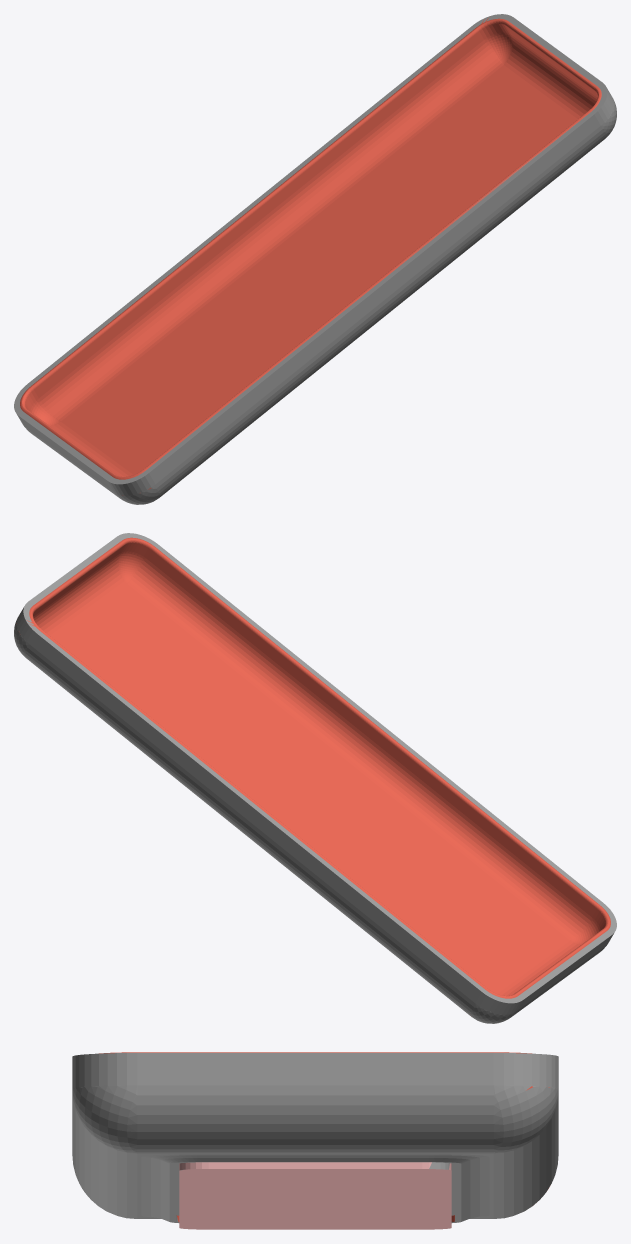
The model's file is Red_Concrete_Dish.glb.
The picture shows the model from 3 angles, top to bottom: view 1: azimuth 30°, elevation 25°; view 2: azimuth 150°, elevation 25°; view 3: azimuth 270°, elevation 25°; orthographic projection. The views are drawn at different scales.
Visible parts, largest first — view 1: Long Concrete Serving Bowl; view 2: Long Concrete Serving Bowl; view 3: Long Concrete Serving Bowl.
Boxes of the visible parts, x1=… form: Long Concrete Serving Bowl: x1=14, y1=14, x2=616, y2=504; Long Concrete Serving Bowl: x1=14, y1=533, x2=616, y2=1023; Long Concrete Serving Bowl: x1=72, y1=1052, x2=558, y2=1229.
Bounding box in the file's own units: 180 × 104 × 75.
